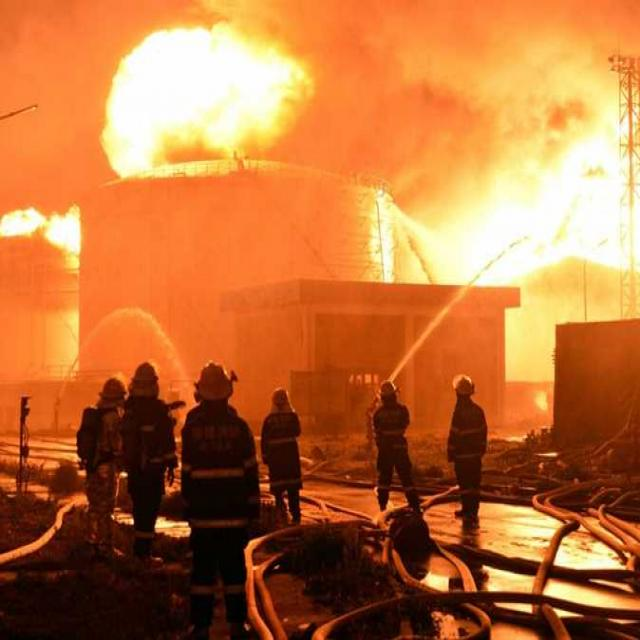Fire: (391, 143, 640, 383), (98, 20, 316, 179), (0, 206, 82, 272)
